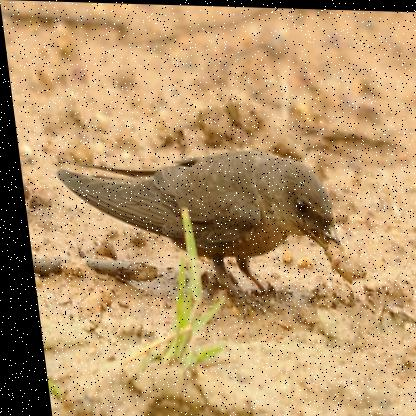Burung: (50, 145, 343, 319)
